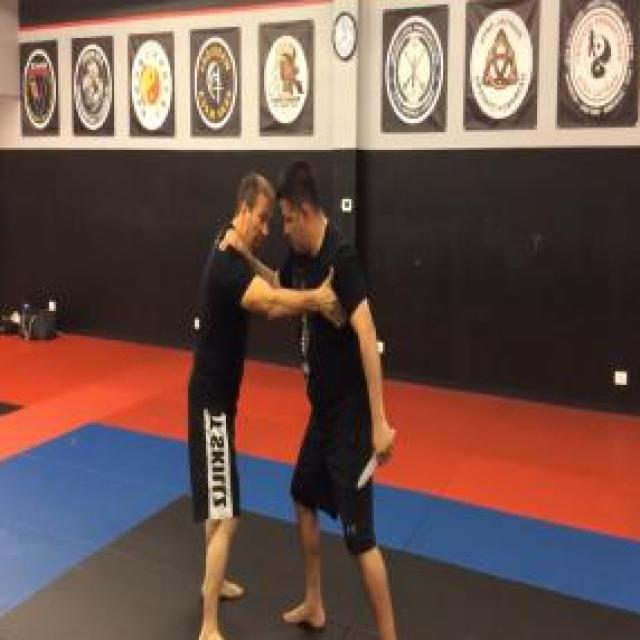knife: (352, 416, 401, 497)
